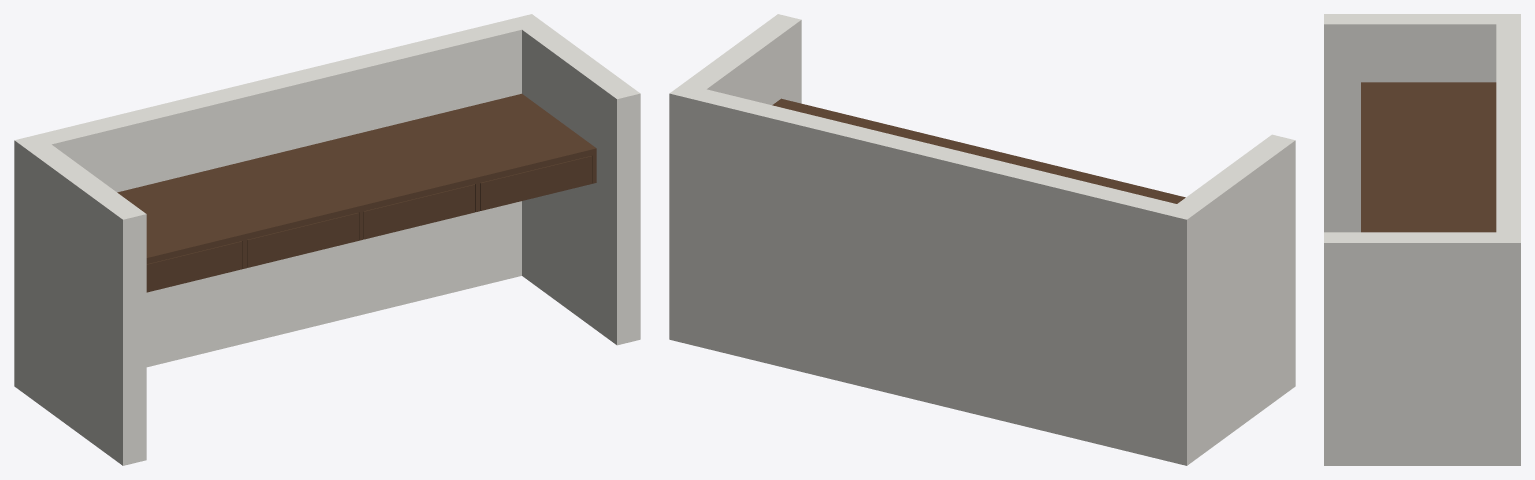
File: floating-walnut-desk-highbury.glb
The picture shows the model from 3 angles, left to right: view 1: azimuth 30°, elevation 25°; view 2: azimuth 150°, elevation 25°; view 3: azimuth 270°, elevation 25°; orthographic projection. The views are drawn at different scales.
Parts seen in each view (by area): view 1: Back wall, Top, walnut, Wall left, Wall right, Drawer 3: Front (finger lip underneath), Drawer 2: Front (finger lip underneath), Drawer 4: Front (finger lip underneath), Drawer 1: Front (finger lip underneath); view 2: Back wall, Wall left, Wall right, Top, walnut; view 3: Wall right, Top, walnut, Wall left, Back wall.
Boxes of the visible parts, x1,y1,x2,y2 form: Back wall: (14, 14, 544, 395); Top, walnut: (117, 93, 596, 263); Wall left: (28, 144, 146, 465); Wall right: (522, 24, 640, 345); Drawer 3: Front (finger lip underneath): (363, 184, 475, 239); Drawer 2: Front (finger lip underneath): (247, 212, 358, 267); Drawer 4: Front (finger lip underneath): (480, 156, 591, 210); Drawer 1: Front (finger lip underneath): (146, 241, 242, 292); Back wall: (669, 83, 1200, 465); Wall left: (1177, 134, 1295, 455); Wall right: (683, 14, 801, 105); Top, walnut: (772, 98, 1185, 203); Wall right: (1324, 232, 1496, 465); Top, walnut: (1361, 82, 1496, 232); Wall left: (1324, 14, 1496, 232); Back wall: (1496, 14, 1520, 465).
Bounding box in the file's own units: 2.2 × 1 × 0.8.
